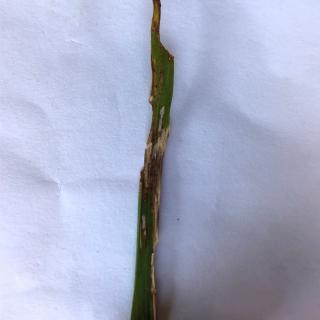Hawar-Daun: (132, 2, 178, 308)
